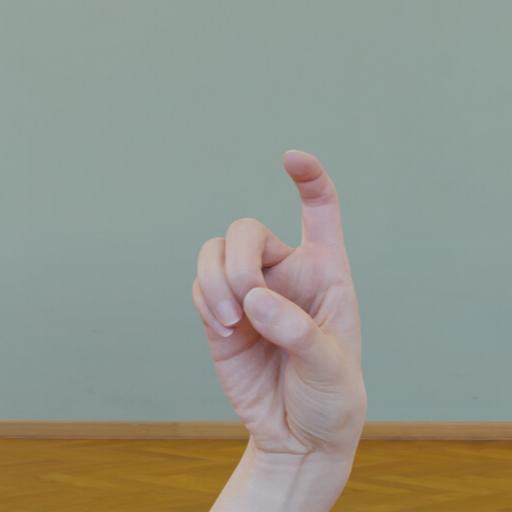X: (184, 145, 384, 445)
